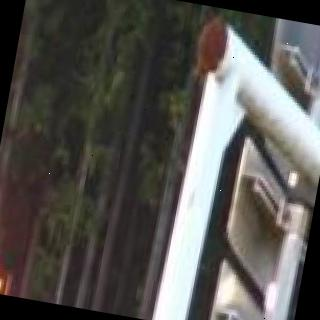fire: (0, 100, 47, 296)
